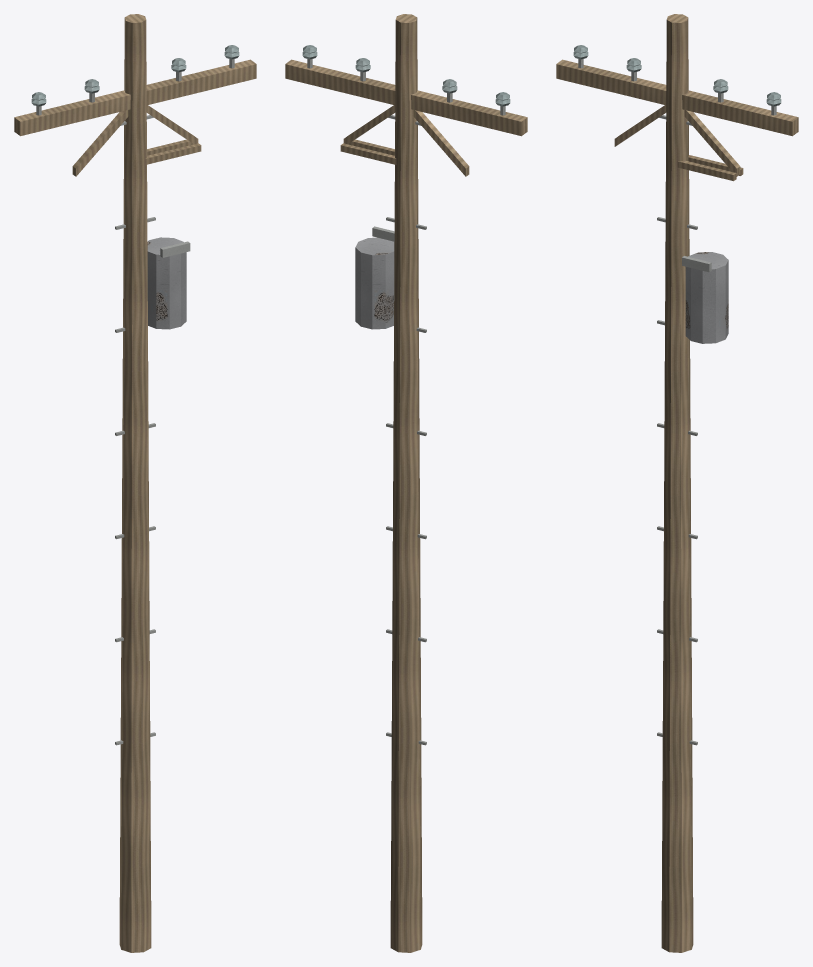
File: utilpole.glb
3 views of the same model, side by side, from view 1: azimuth 30°, elevation 25°; view 2: azimuth 150°, elevation 25°; view 3: azimuth 330°, elevation 25° (orthographic).
Parts seen in each view (by area): view 1: NC_utilpole; view 2: NC_utilpole; view 3: NC_utilpole.
Part boxes in pixels (bbox=[...]): NC_utilpole: bbox=[14, 14, 256, 952]; NC_utilpole: bbox=[285, 14, 527, 952]; NC_utilpole: bbox=[556, 14, 798, 952].
Bounding box in the file's own units: 2.4 × 9 × 0.3807.
4 materials, 4 textured.
